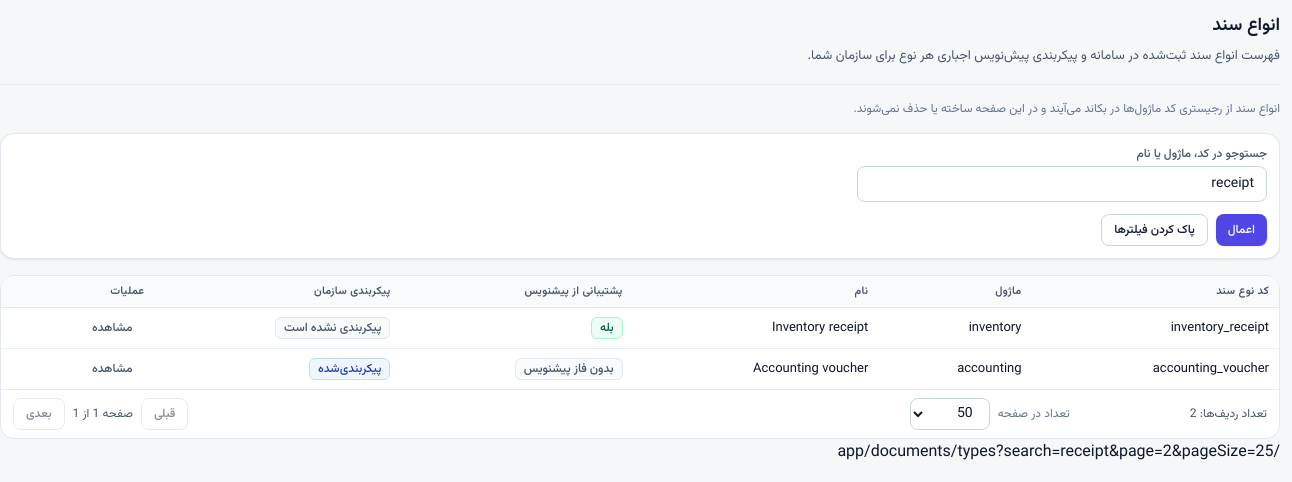
Scenario: DocumentTypesPage › reads search/page/pageSize from the URL and applies a new search to it
This screenshot has width=1292, height=482.
Expected: the text with test id "location" shows "?search=receipt&page=2&pageSize=25", [837, 440, 1280, 465]
Replace the text in the field labelled "جستوجو در کد، ماژول یا نام" with "accounting" at (1062, 184), box [857, 166, 1267, 202]
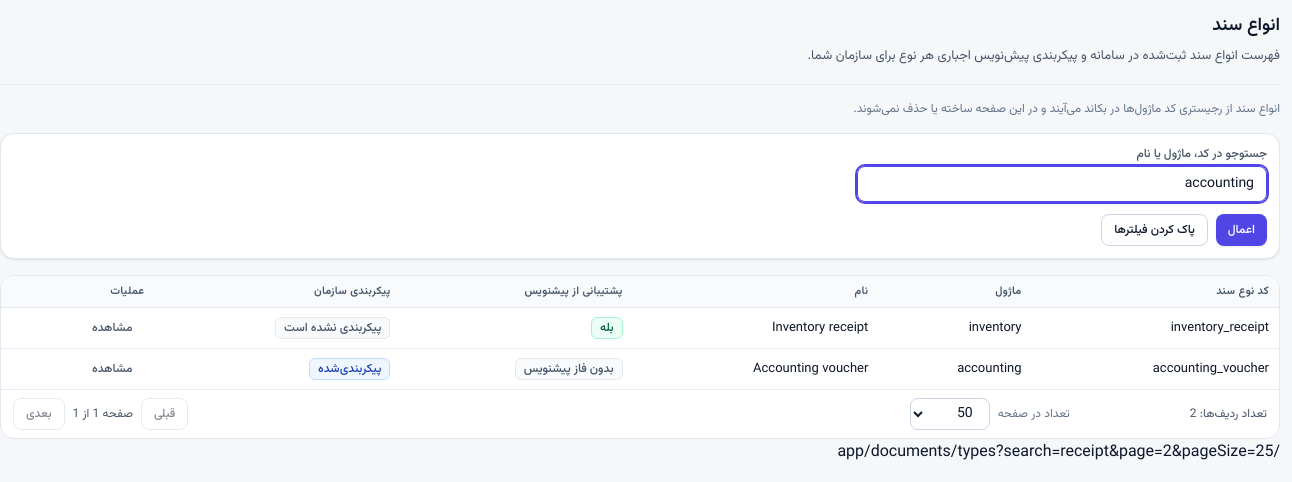
Click the button "اعمال".
click(1241, 230)  # box [1216, 214, 1267, 246]
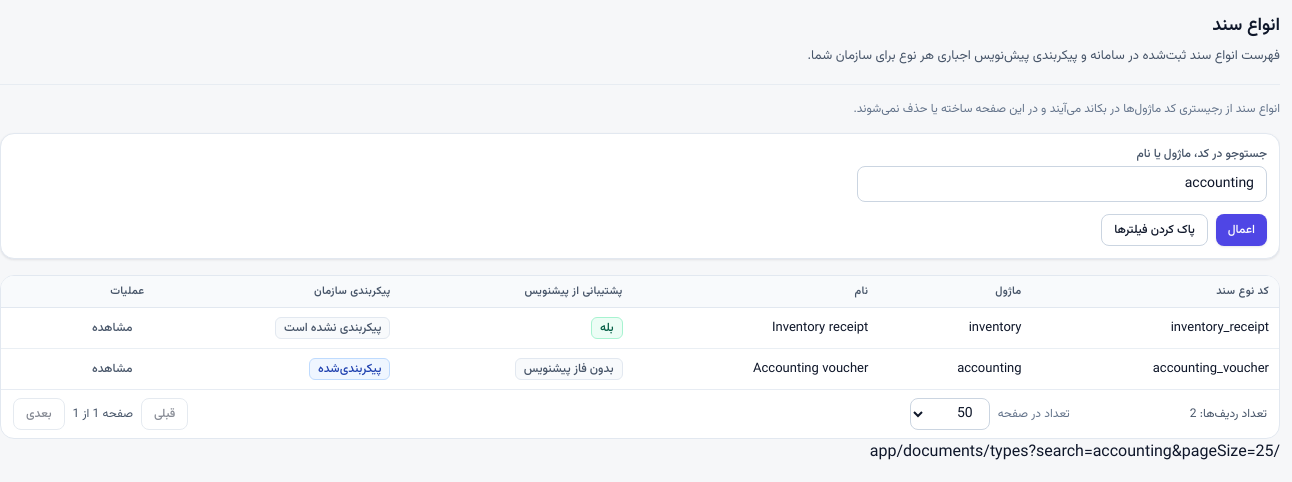
Result: the text with test id "location" shows "search=accounting" at [870, 440, 1280, 465]
